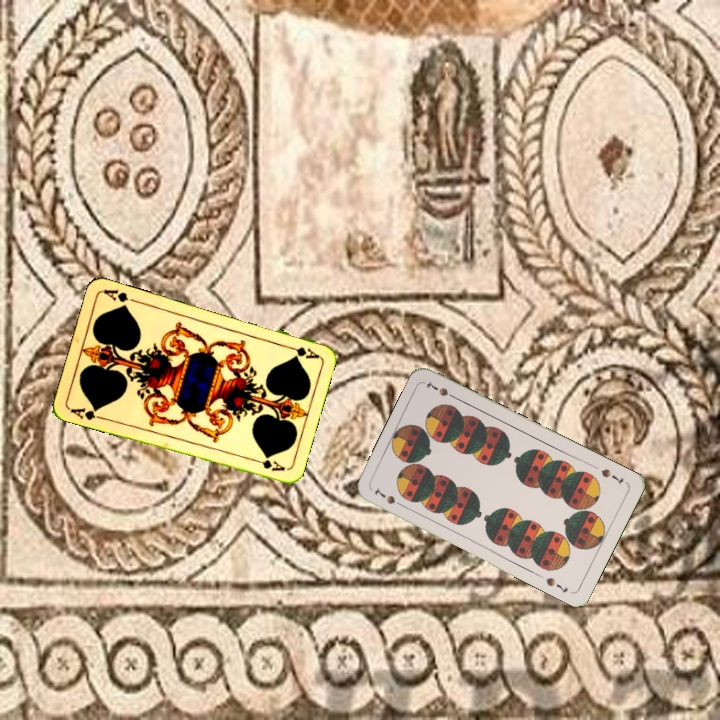GA: (66, 403, 106, 423), (281, 341, 321, 361)
S7: (370, 484, 406, 510), (597, 465, 626, 488)
